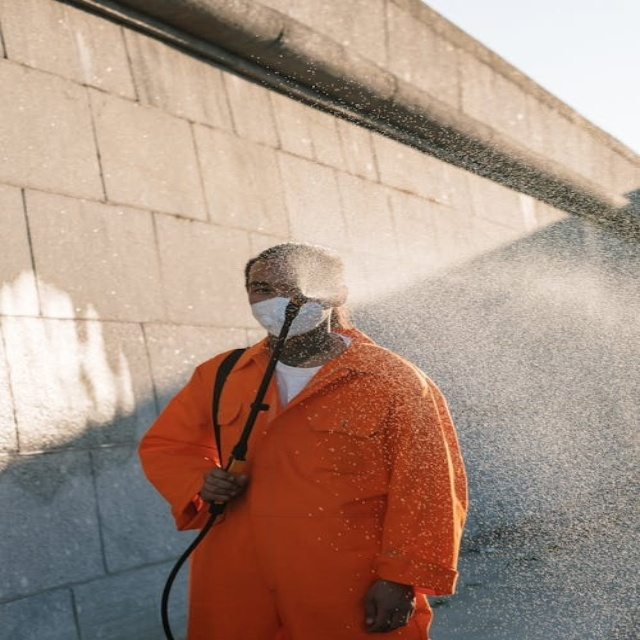Mascara: (249, 295, 332, 340)
Sin_guantes: (363, 580, 415, 632), (199, 466, 247, 505)
